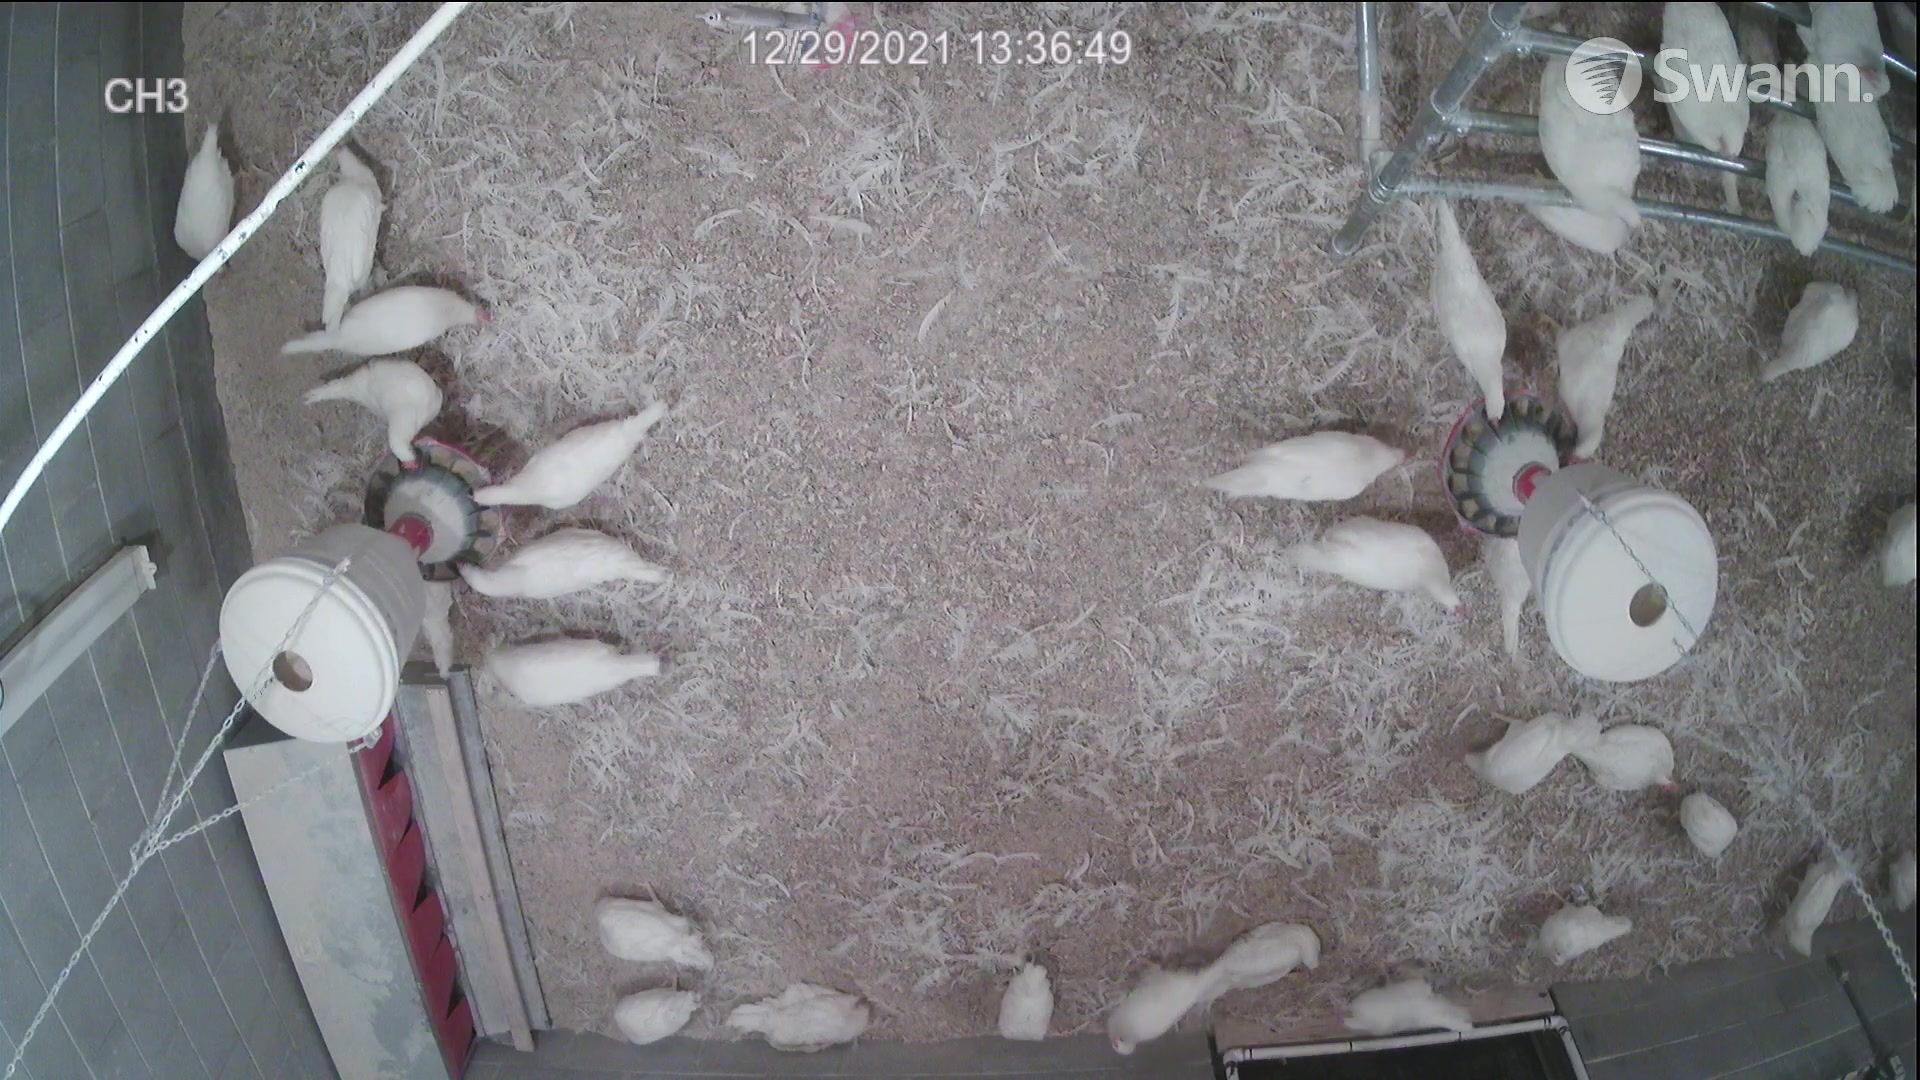Feeding: (463, 400, 675, 520), (1415, 190, 1520, 429), (1539, 281, 1655, 465), (298, 363, 439, 465), (440, 526, 669, 585)
Foraging: (1197, 425, 1418, 513), (309, 132, 410, 313), (248, 286, 520, 338), (1755, 272, 1879, 372), (597, 890, 720, 975), (1461, 702, 1563, 796)
Perching: (1531, 41, 1654, 247), (1643, 8, 1745, 165), (1800, 91, 1913, 203), (1755, 95, 1826, 255), (1803, 7, 1898, 108)
